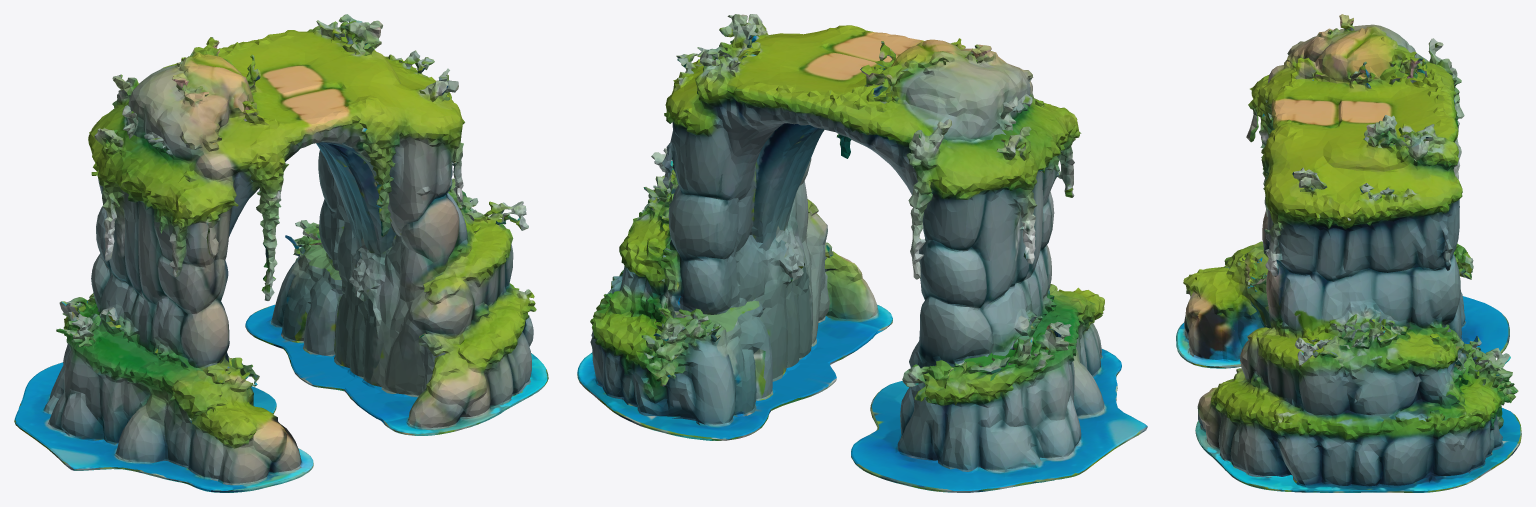
File: mossy_cliff_archway.glb
3 renders of one model, left to right at view 1: azimuth 30°, elevation 25°; view 2: azimuth 150°, elevation 25°; view 3: azimuth 270°, elevation 25°, orthographic. The views are drawn at different scales.
Visible parts, largest first — view 1: tmpnl2owfvp.ply; view 2: tmpnl2owfvp.ply; view 3: tmpnl2owfvp.ply.
Part boxes in pixels (x1,y1,x2,y2): tmpnl2owfvp.ply: [14, 14, 548, 492]; tmpnl2owfvp.ply: [577, 14, 1147, 492]; tmpnl2owfvp.ply: [1176, 14, 1521, 492].
Size of the model in its own units: 2 by 1.42 by 1.37.
Materials: 1 (1 with a texture image).
